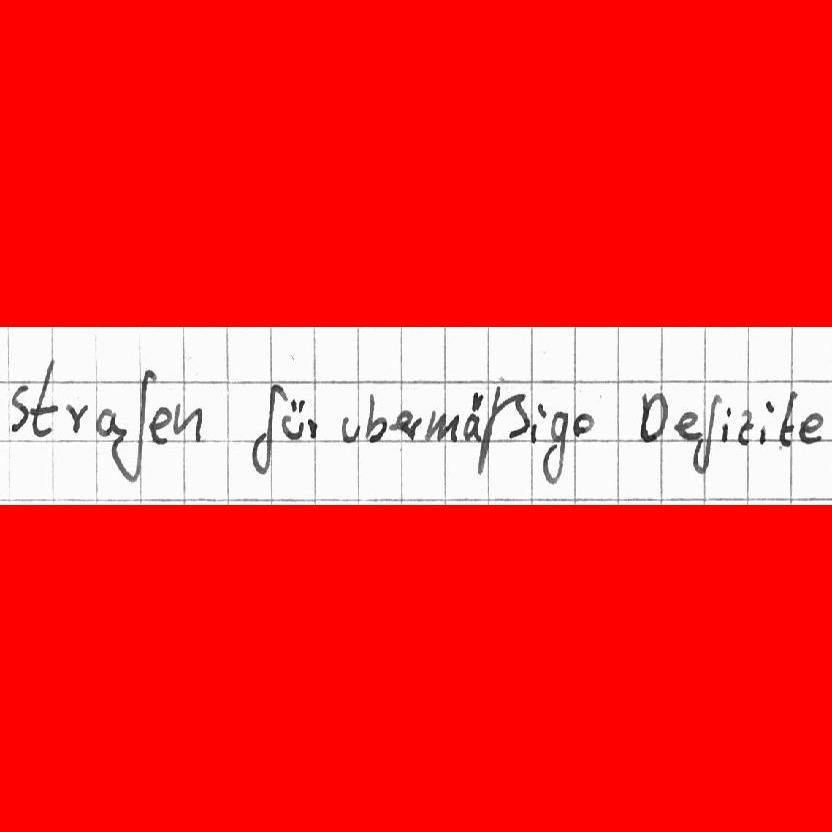Char: (476, 380, 530, 478), (119, 364, 156, 485), (250, 383, 282, 474), (28, 356, 60, 440), (538, 410, 570, 485), (693, 391, 722, 473), (638, 388, 671, 443), (364, 391, 390, 446), (172, 401, 205, 442), (392, 405, 425, 444), (462, 388, 485, 443), (425, 407, 460, 443), (778, 387, 798, 448), (8, 380, 30, 435), (94, 404, 128, 439), (281, 396, 306, 441), (797, 408, 826, 445), (673, 408, 704, 441), (63, 399, 88, 437), (149, 405, 172, 444), (736, 407, 756, 448), (759, 397, 776, 445), (338, 411, 363, 443), (572, 409, 598, 439), (529, 402, 546, 447), (719, 402, 732, 442), (307, 414, 322, 440)
